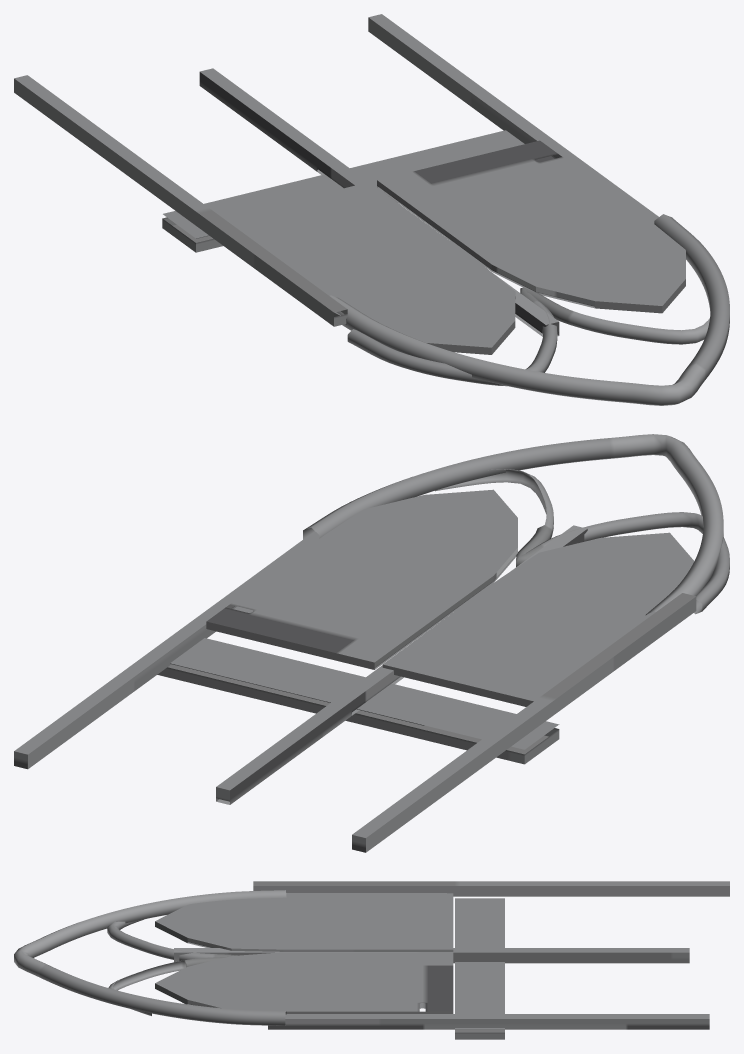
3 renders of one model, top to bottom at view 1: azimuth 30°, elevation 25°; view 2: azimuth 150°, elevation 25°; view 3: azimuth 270°, elevation 25°, orthographic. The views are drawn at different scales.
Size of the model in its own units: 0.9341 by 0.095 by 2.15.
